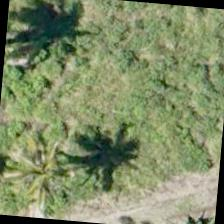Kelapa_Sawit: (0, 120, 96, 219)
